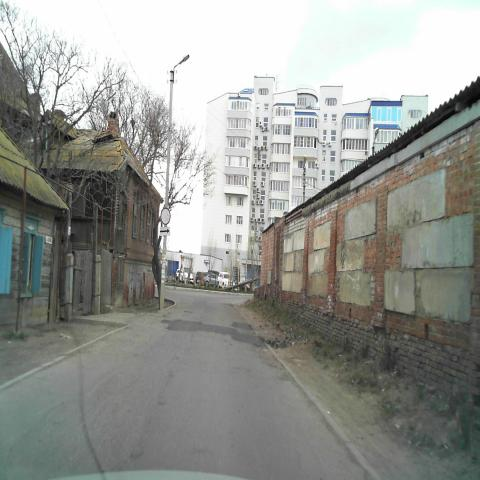3_2: (160, 206, 170, 224)
8_3_1: (159, 226, 170, 236)
